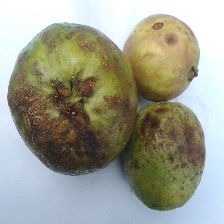guava: (0, 48, 193, 194)
